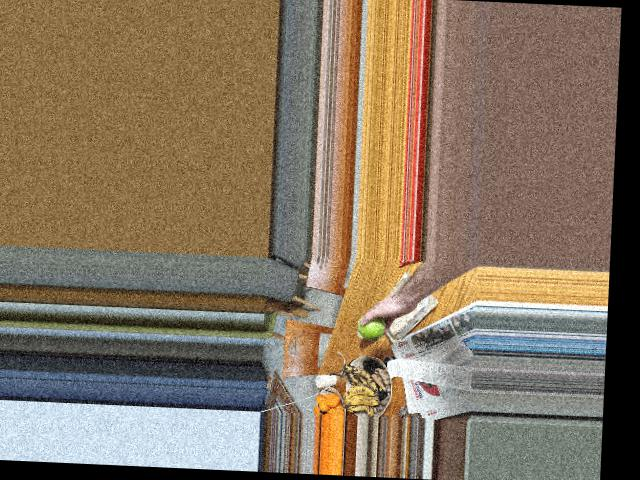apple: (355, 309, 389, 339)
